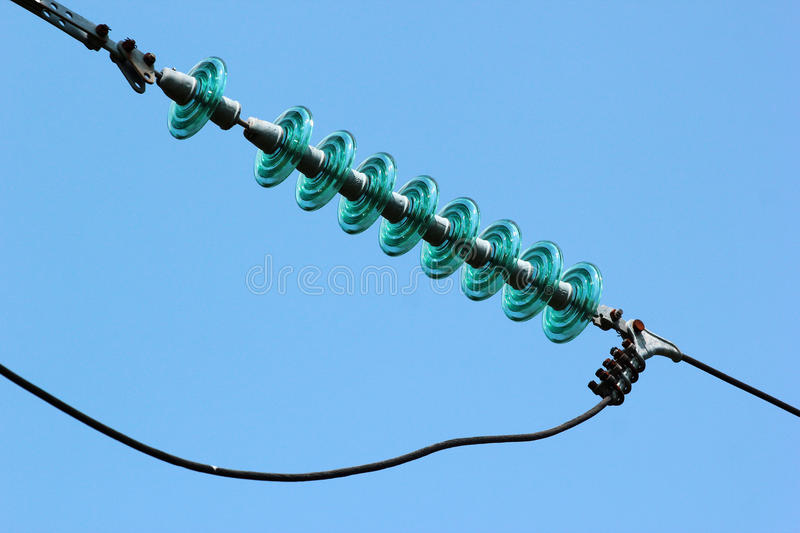isolator: (166, 55, 604, 345)
